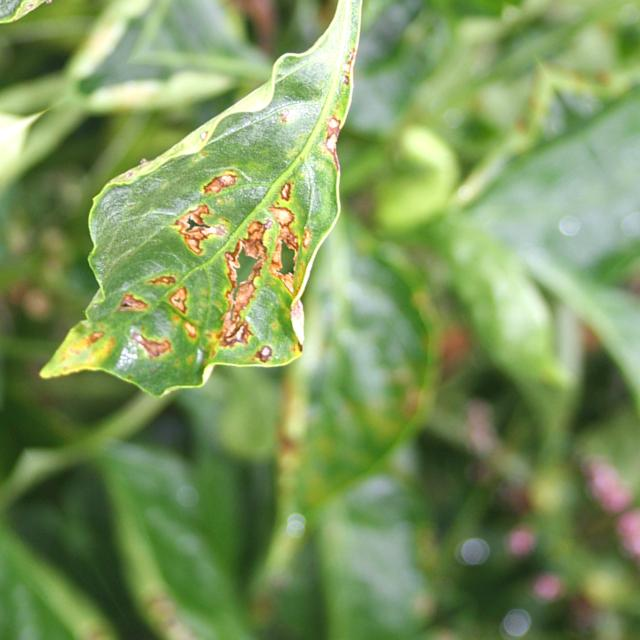Tomato leaf bacterial spot: (0, 0, 514, 497)
